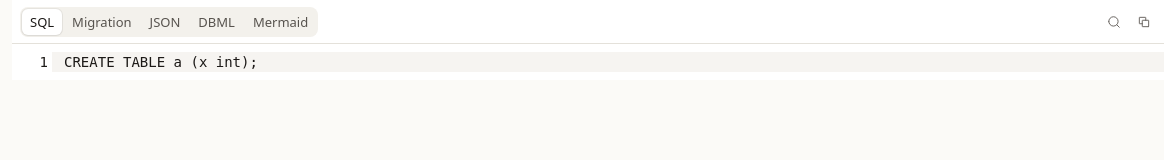
Test: SchemaText's own tabs › show their content and actions when picked, and stay mounted
Expected: the button "Download the migration" is not shown
Expected: the button named "Copy the SQL" is shown, top-left (1130, 8), bottom-right (1158, 36)
Step 1. Click the tab "Migration" → point(102, 22), box top-left (64, 8), bottom-right (140, 34)
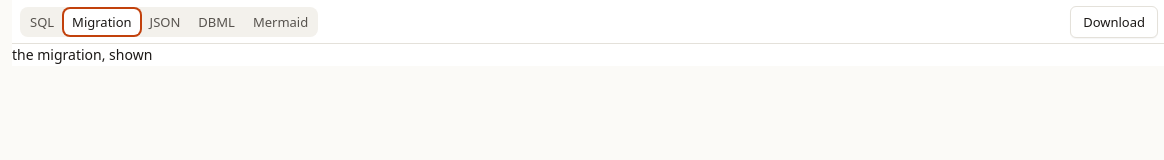
Expected: the text "the migration, shown" is shown, top-left (12, 45), bottom-right (152, 64)
Expected: the button with aria-label "Download the migration" is shown, top-left (1070, 6), bottom-right (1158, 38)
